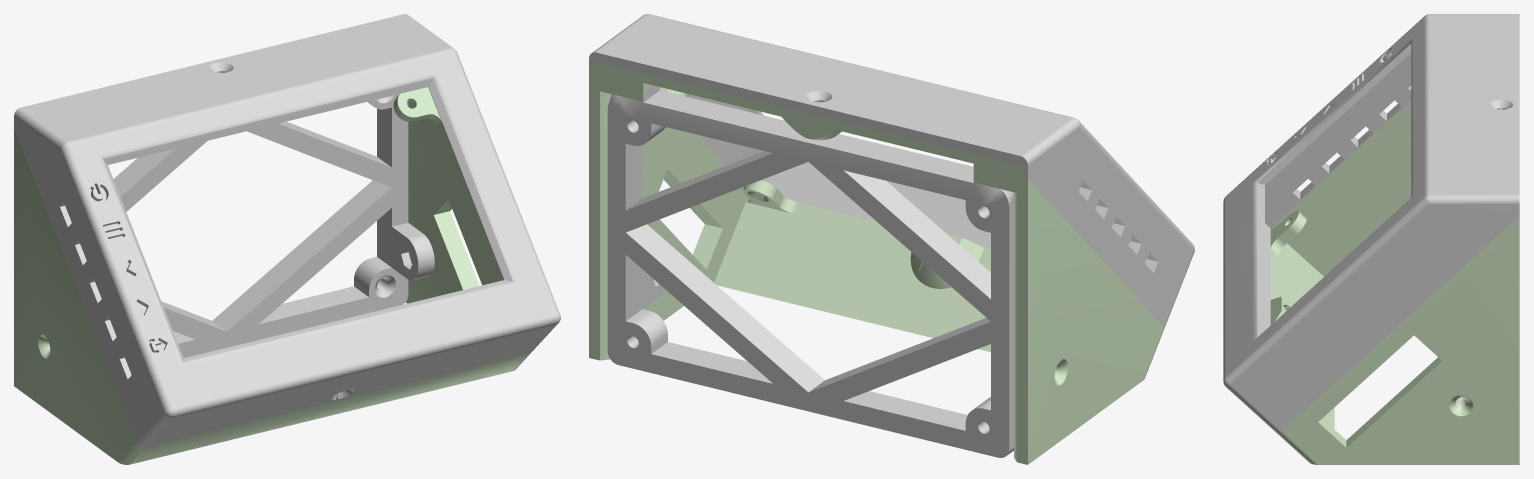
Rendered from mdl_eurekapaprika_case.gltf.
The picture shows the model from 3 angles, left to right: view 1: azimuth 30°, elevation 25°; view 2: azimuth 150°, elevation 25°; view 3: azimuth 270°, elevation 25°; orthographic projection. The views are drawn at different scales.
Visible parts, largest first — view 1: Material0, Material0.002, Material0.001; view 2: Material0.002, Material0.001, Material0; view 3: Material0, Material0.002.
Part boxes in pixels (x1,y1,x2,y2): Material0: [14, 14, 560, 446]; Material0.002: [14, 87, 530, 464]; Material0.001: [113, 94, 434, 357]; Material0.002: [589, 62, 1164, 464]; Material0.001: [607, 84, 1013, 457]; Material0: [589, 14, 1194, 326]; Material0: [1223, 14, 1519, 432]; Material0.002: [1270, 101, 1519, 464].
Bounding box in the file's own units: 0.1211 × 0.081 × 0.0814.
